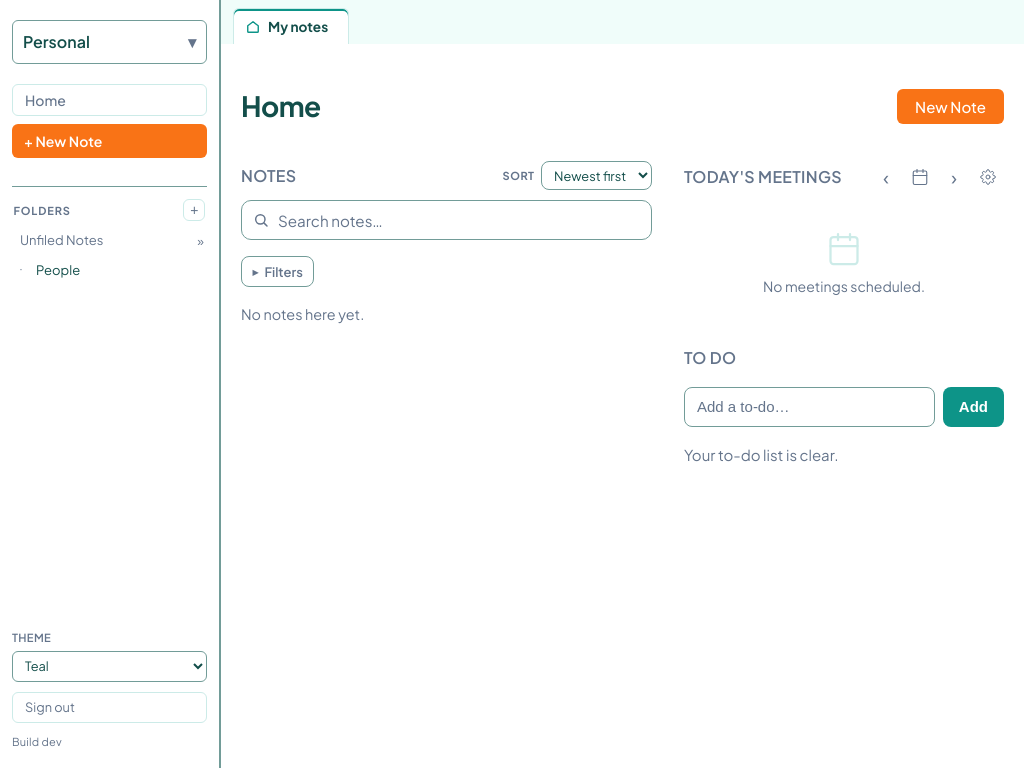
Scenario: FolderNavigation › CHANGE-11: the unfiled preview button toggles » ↔ « and opens/closes the panel
This screenshot has width=1024, height=768.
Open the preview — button flips to « and the panel opens.
Click the button with test id "unfiled-preview-button" at coordinates (200, 242), box [194,233,207,252]
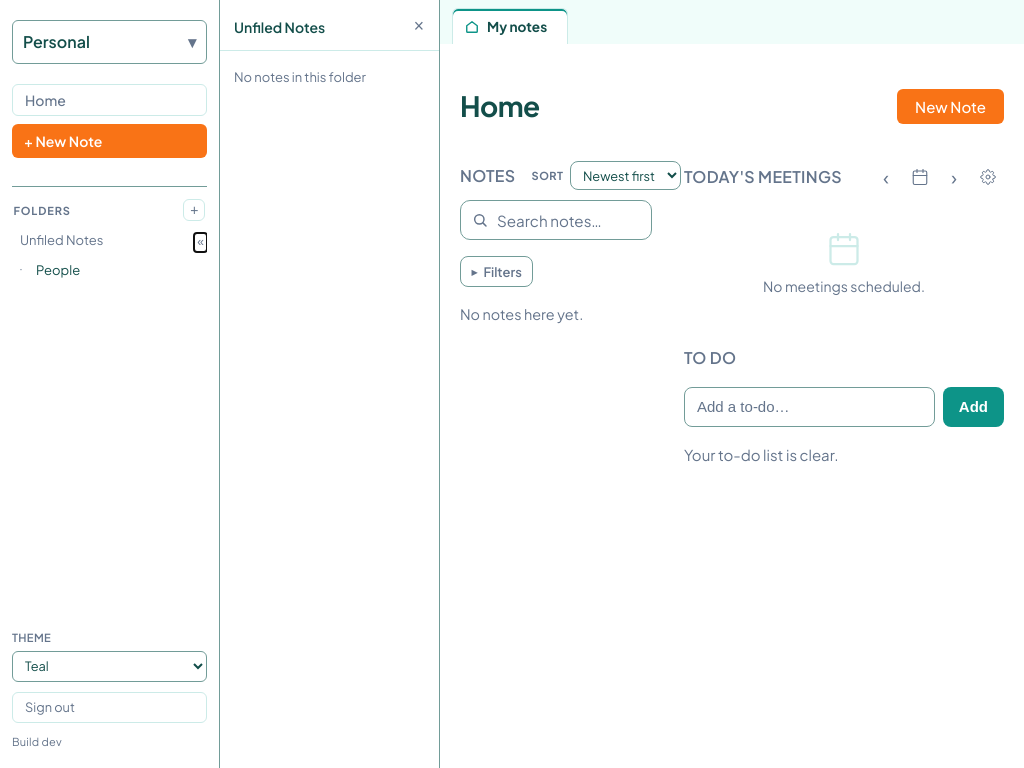
Now the button with test id "unfiled-preview-button" reads "«"
Click again — panel closes and the button returns to ».
Click the button with test id "unfiled-preview-button" at coordinates (200, 242), box [194,233,207,252]
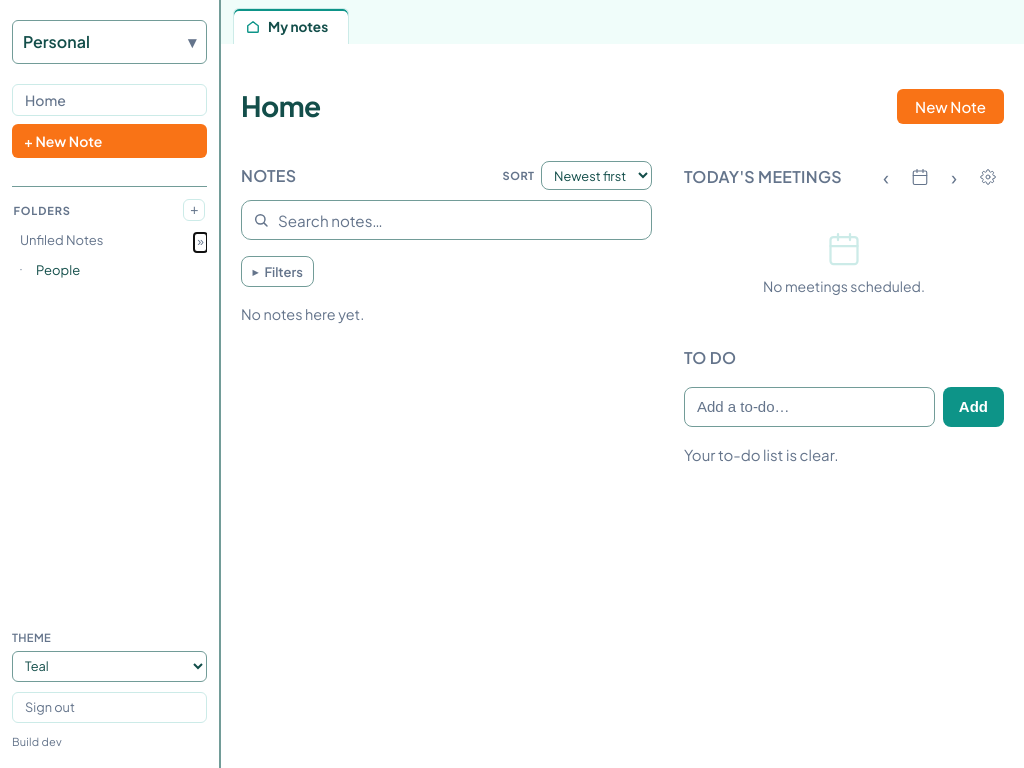
Now the button with test id "unfiled-preview-button" reads "»", box [194,233,207,252]
